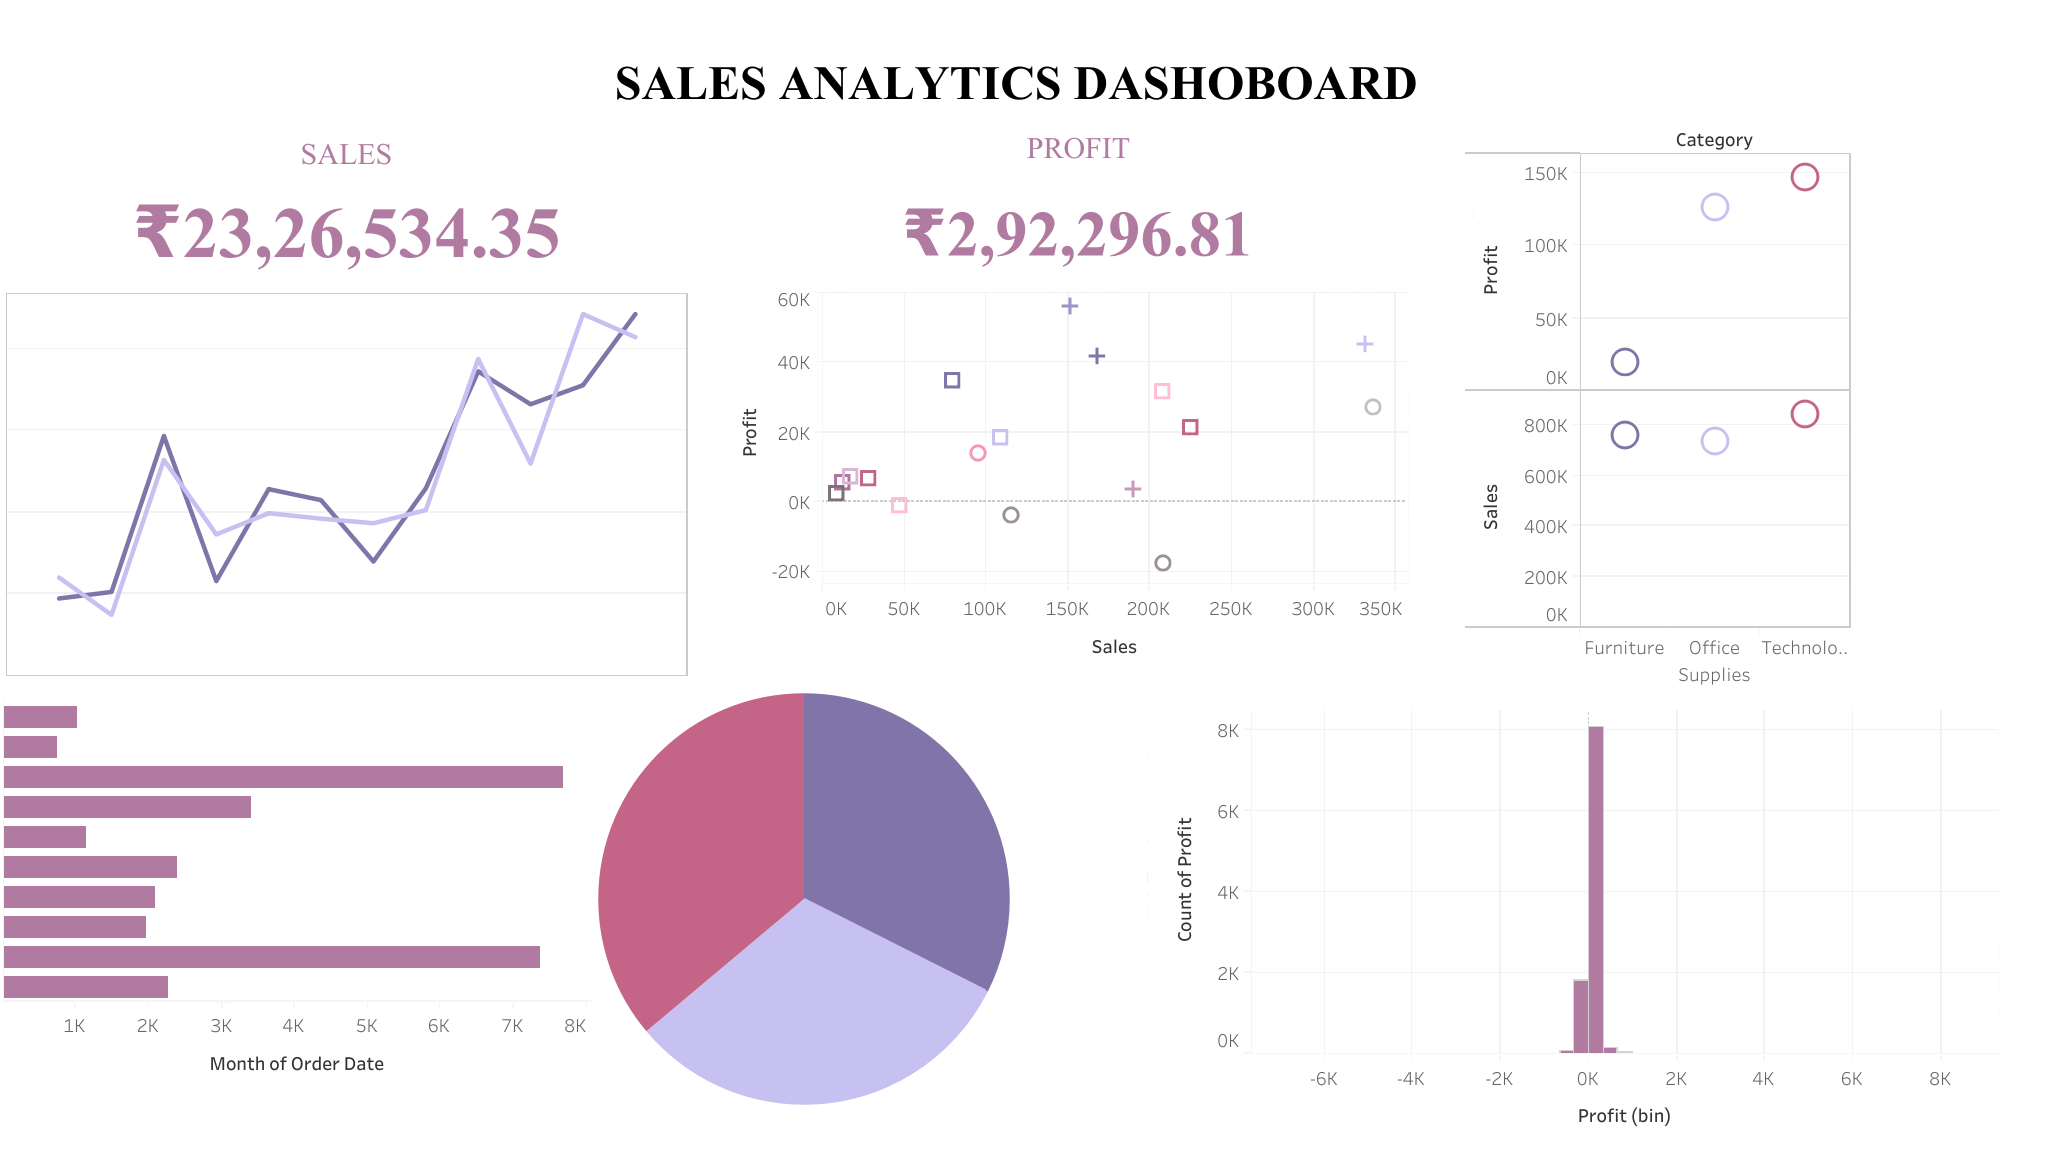

Layout of this report page (visuals, bound fields, positions):
{"tool":"tableau","page":{"name":"Sales Analytics","canvas":[1366,768],"ordinal":0},"visuals":[{"type":"text","box":[7,19,1341,71]},{"type":"worksheet","title":"KPI-TOTAL PROFIT","mark":"Automatic","box":[457,81,524,112]},{"type":"worksheet","title":"Circle View","mark":"Shape","rows":["Profit","Sales"],"cols":["Category"],"box":[977,82,341,377]},{"type":"worksheet","title":"KPI-Total Sales ","mark":"Automatic","box":[5,85,452,103]},{"type":"legend","title":"Circle View","param":"[federated.1oi3s9b0woj7xo11a57p4194c6j5].[sum:Sales:qk]","box":[777,92,140,126]},{"type":"legend","title":"Circle View","param":"[federated.1oi3s9b0woj7xo11a57p4194c6j5].[sum:Profit:qk]","box":[762,107,140,100]},{"type":"worksheet","title":"Scatter Plot ","mark":"Automatic","rows":["Profit"],"cols":["Sales"],"box":[483,190,455,256]},{"type":"worksheet","title":"Dual Line Chart","mark":"Automatic","rows":["Profit","Sales"],"cols":["Order Date"],"box":[4,195,455,256]},{"type":"worksheet","title":"Pie Chart ","mark":"Pie","box":[308,453,456,292]},{"type":"worksheet","title":"Gantt Chart ","mark":"Automatic","rows":["Order ID"],"cols":["Order Date"],"box":[2,467,392,289]},{"type":"worksheet","title":"Histogram","mark":"Automatic","rows":["Profit"],"cols":["Profit (bin)"],"box":[773,473,559,286]},{"type":"legend","title":"Gantt Chart ","param":"[federated.1oi3s9b0woj7xo11a57p4194c6j5].[none:Category:nk]","box":[552,515,159,101]}]}

Visuals, with their boxes in screenshot pixels (x1, y1, x2, y2), scaled from the page's 1366x768 canvas onto the 2048x1151 screenshot:
text: <box>10,28,2021,135</box>
"KPI-TOTAL PROFIT" worksheet: <box>685,121,1471,289</box>
"Circle View" worksheet (Shape marks): <box>1465,123,1976,688</box>
"KPI-Total Sales " worksheet: <box>7,127,685,282</box>
"Circle View" legend: <box>1165,138,1375,327</box>
"Circle View" legend: <box>1142,160,1352,310</box>
"Scatter Plot " worksheet: <box>724,285,1406,668</box>
"Dual Line Chart" worksheet: <box>6,292,688,676</box>
"Pie Chart " worksheet (Pie marks): <box>462,679,1145,1117</box>
"Gantt Chart " worksheet: <box>3,700,591,1133</box>
"Histogram" worksheet: <box>1159,709,1997,1138</box>
"Gantt Chart " legend: <box>828,772,1066,923</box>
